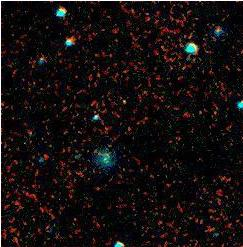star: (111, 91, 141, 121)
